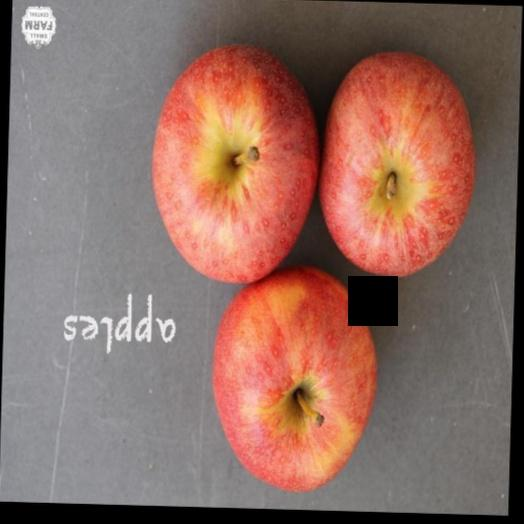red apple: (155, 39, 321, 289), (205, 266, 379, 493), (320, 48, 477, 274)
